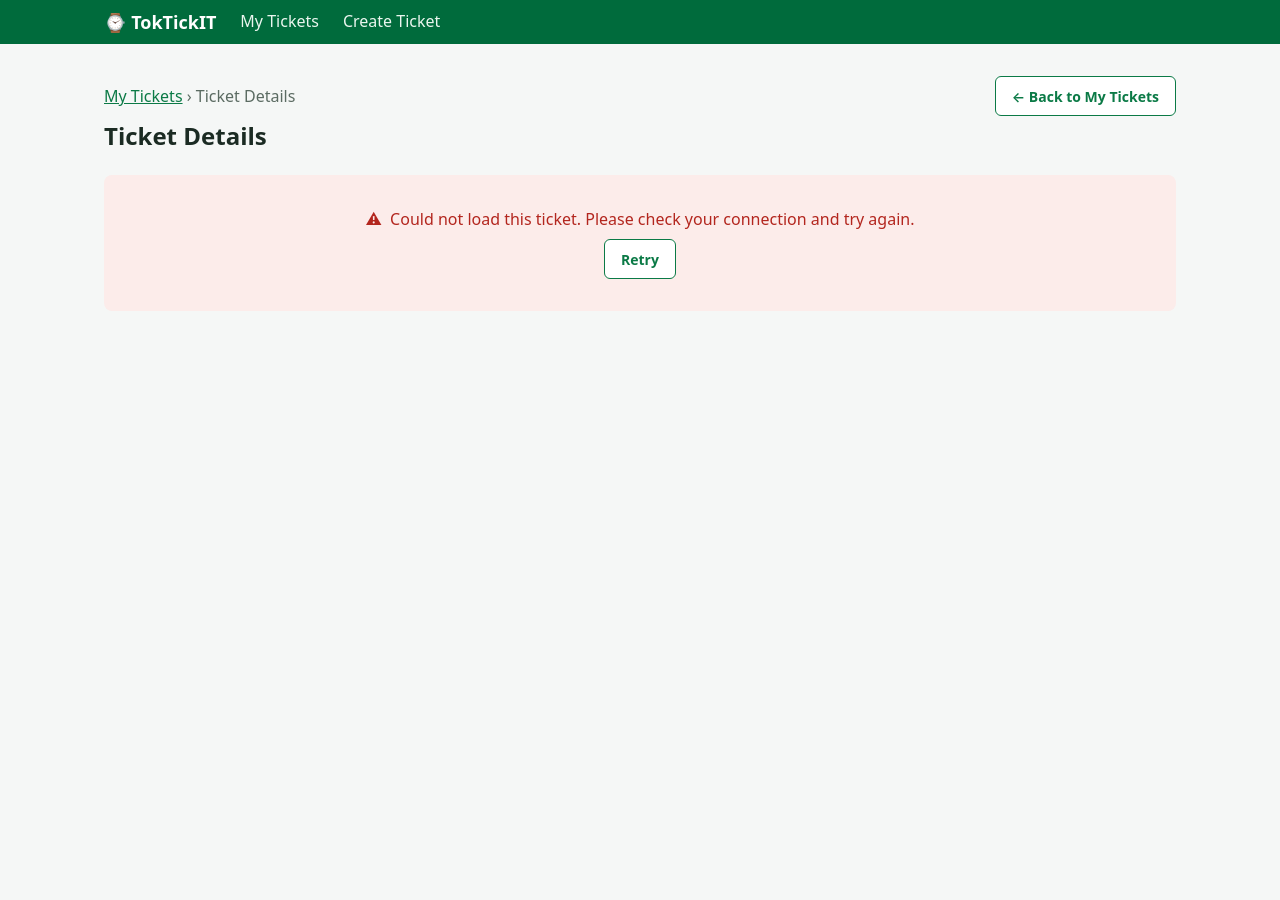
Test: Ticket Detail failure state › shows a role=alert ErrorState with Retry on a network failure, and Retry re-fetches
The image size is (1280, 900).
Expected: the message shows "Could not load this ticket. Please check your connection and try again.", [390,208,914,230]
Click the button "Retry" at (640, 259), box [604,239,676,279]
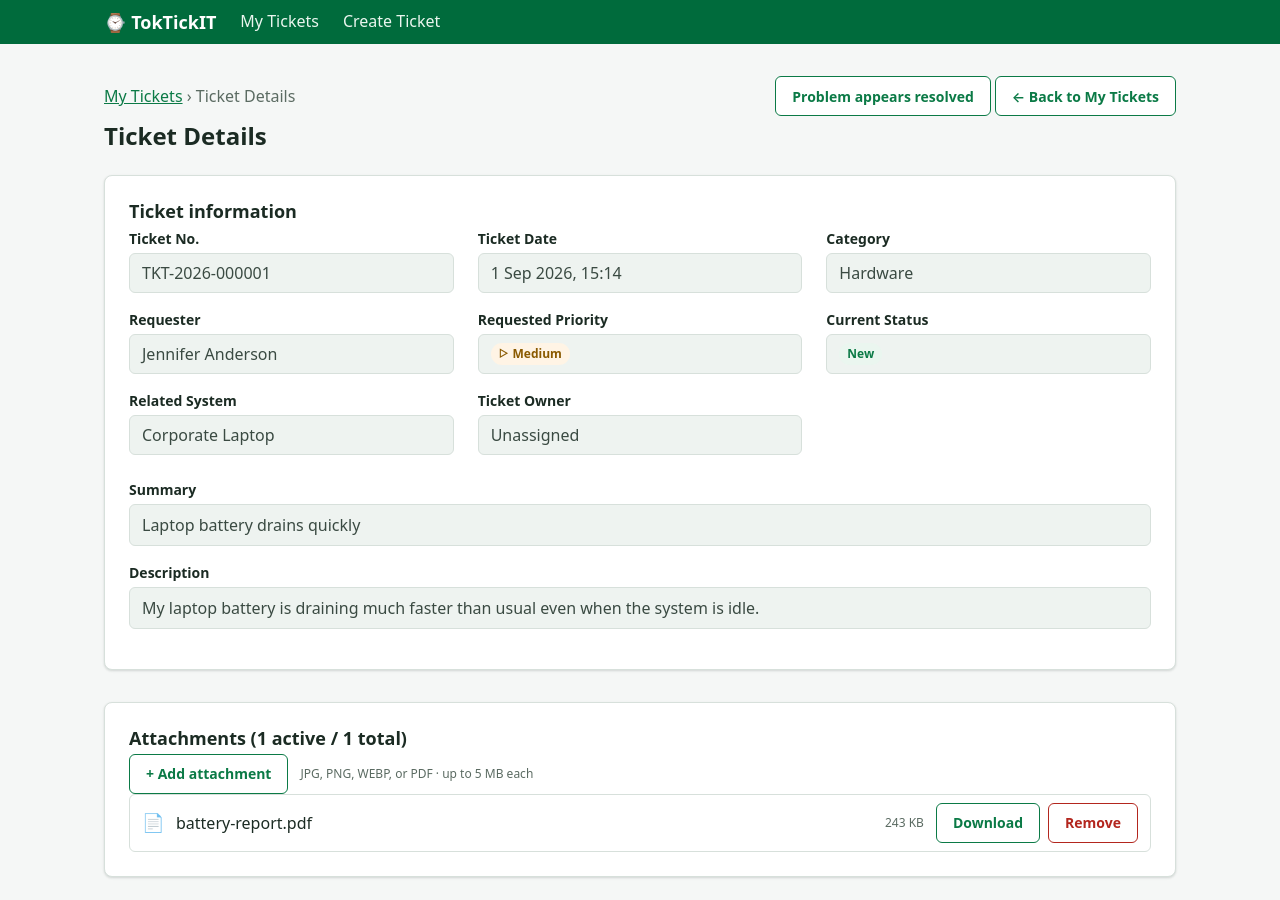
Expected: the text "TKT-2026-000001" is shown, [129,253,454,293]
